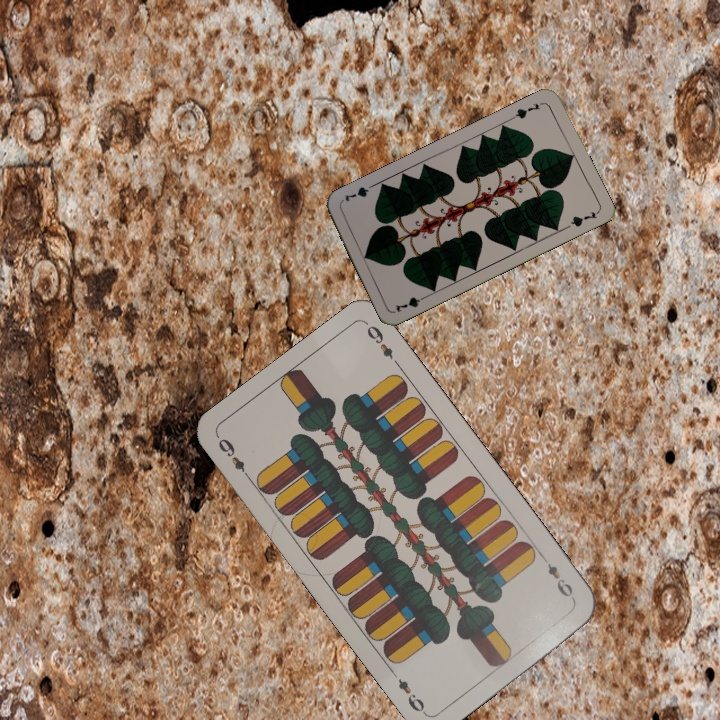E9: (214, 434, 255, 484), (542, 558, 578, 604)
G7: (391, 291, 430, 315), (508, 98, 546, 122)
